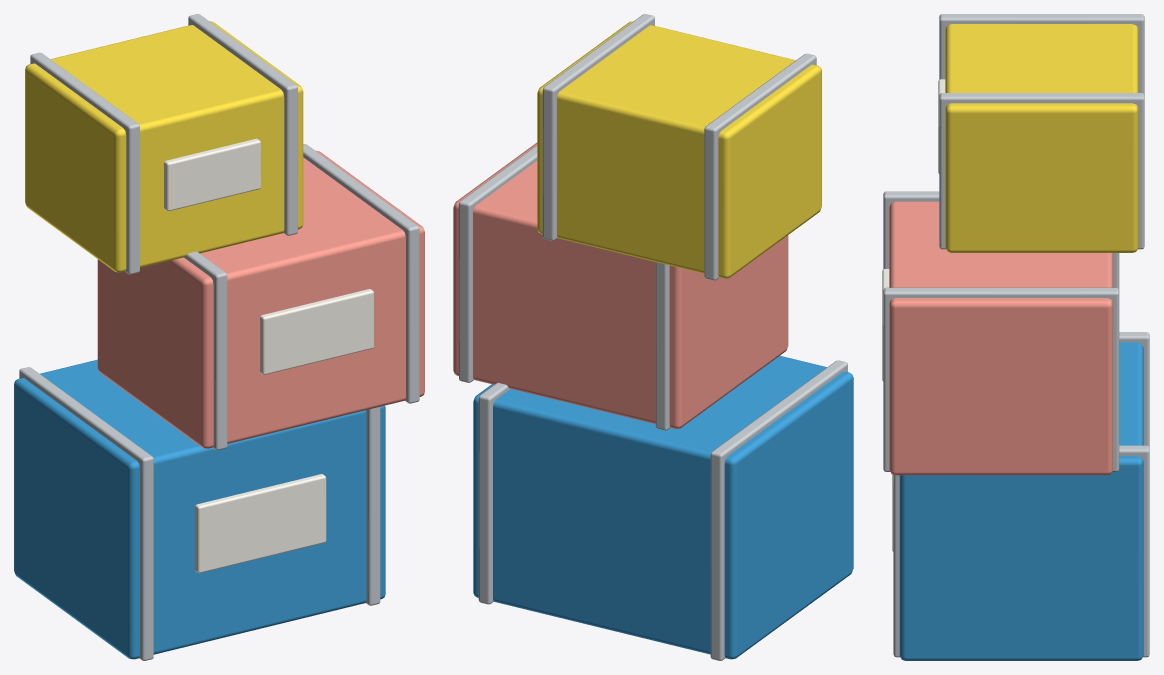
File: hero-shooter-harbour-payload-shipping-crate-stack-fa748b8b__27715.glb
The picture shows the model from 3 angles, left to right: view 1: azimuth 30°, elevation 25°; view 2: azimuth 150°, elevation 25°; view 3: azimuth 270°, elevation 25°; orthographic projection. The views are drawn at different scales.
Visible parts, largest first — view 1: shipping-crate-stack; view 2: shipping-crate-stack; view 3: shipping-crate-stack.
Boxes of the visible parts, x1,y1,x2,y2 form: shipping-crate-stack: [14, 14, 424, 660]; shipping-crate-stack: [453, 14, 853, 660]; shipping-crate-stack: [882, 14, 1149, 660].
Size of the model in its own units: 1.7 by 2.88 by 1.32.
